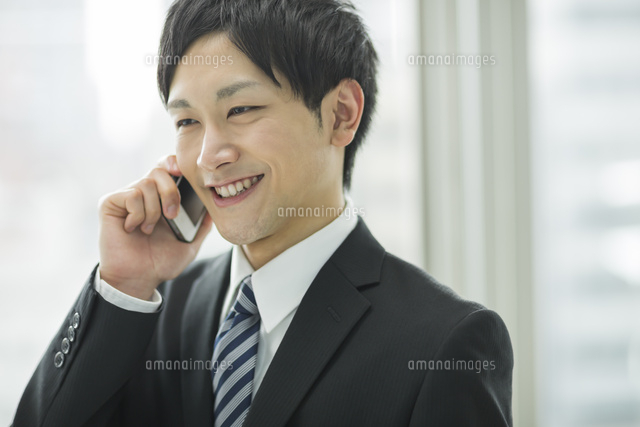phone: (113, 137, 210, 251)
talk: (97, 77, 321, 286)
